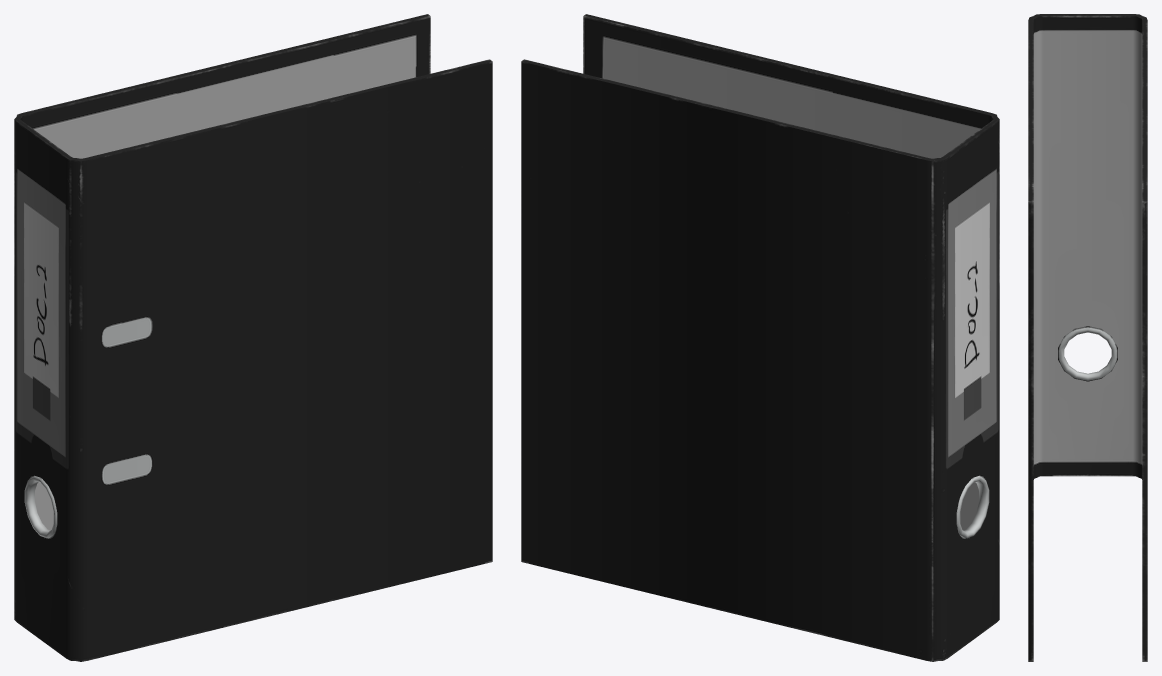
File: ring_binder.glb
3 views of the same model, side by side, from view 1: azimuth 30°, elevation 25°; view 2: azimuth 150°, elevation 25°; view 3: azimuth 270°, elevation 25° (orthographic). The views are drawn at different scales.
Visible parts, largest first — view 1: low_poly; view 2: low_poly; view 3: low_poly.
Part boxes in pixels (x1,y1,x2,y2): low_poly: (14,14,492,661); low_poly: (521,14,999,661); low_poly: (1028,14,1147,661).
Size of the model in its own units: 28.12 by 31.98 by 7.5.
Materials: 1 (1 with a texture image).
